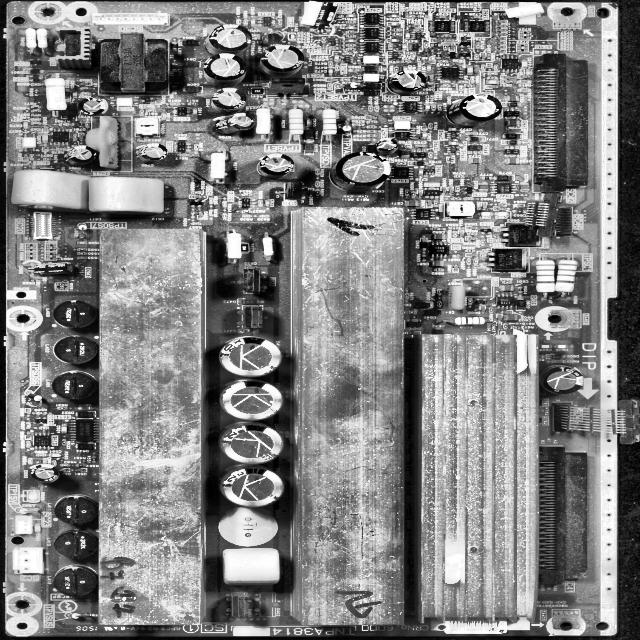PCB: (2, 0, 617, 636)
